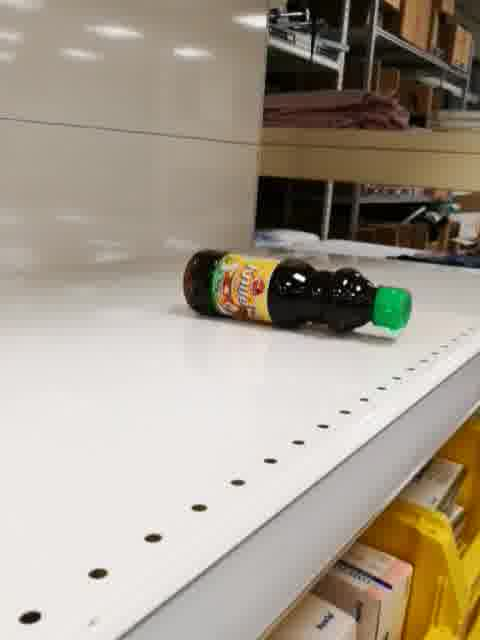cookingoil: (181, 244, 414, 338)
